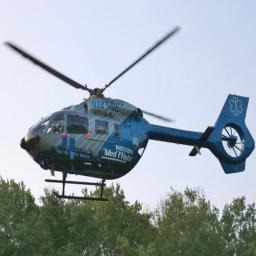helicopter: (10, 24, 256, 204)
